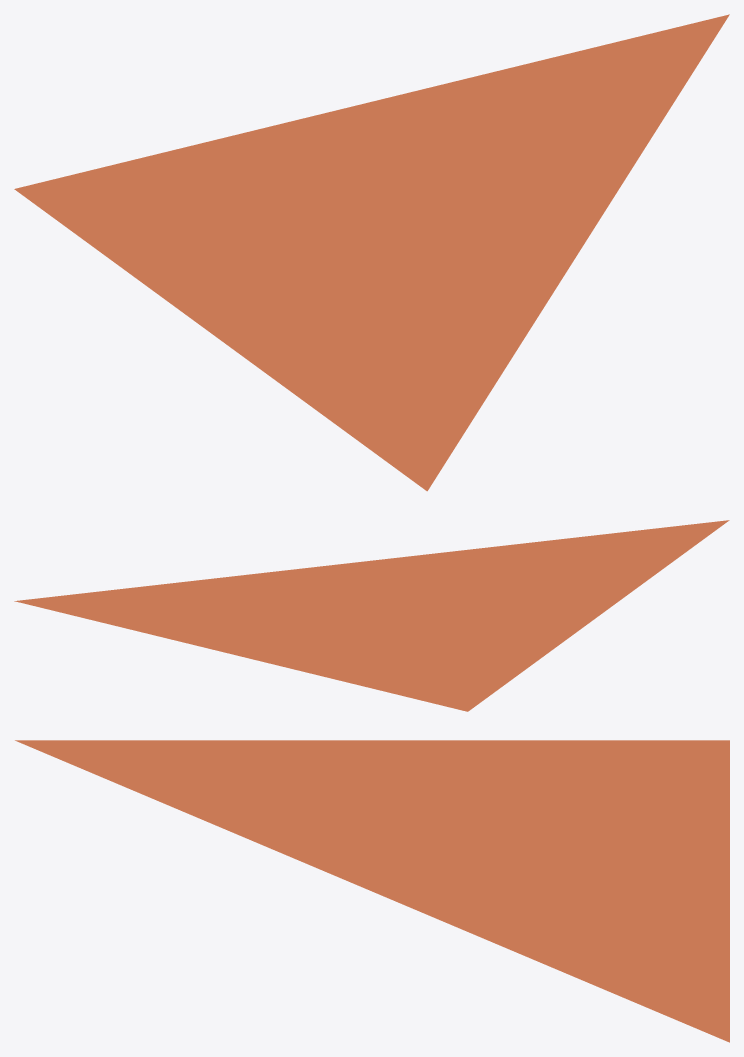
File: ground_pathOpen_halfSE.fbx
The picture shows the model from 3 angles, top to bottom: view 1: azimuth 30°, elevation 25°; view 2: azimuth 150°, elevation 25°; view 3: azimuth 270°, elevation 25°; orthographic projection. The views are drawn at different scales.
Parts seen in each view (by area): view 1: ground_pathOpen; view 2: ground_pathOpen; view 3: ground_pathOpen.
Part boxes in pixels (x1=…): ground_pathOpen: x1=14, y1=14, x2=729, y2=491; ground_pathOpen: x1=14, y1=520, x2=729, y2=711; ground_pathOpen: x1=15, y1=740, x2=729, y2=1042.
Bounding box in the file's own units: 10 × 0 × 10.
